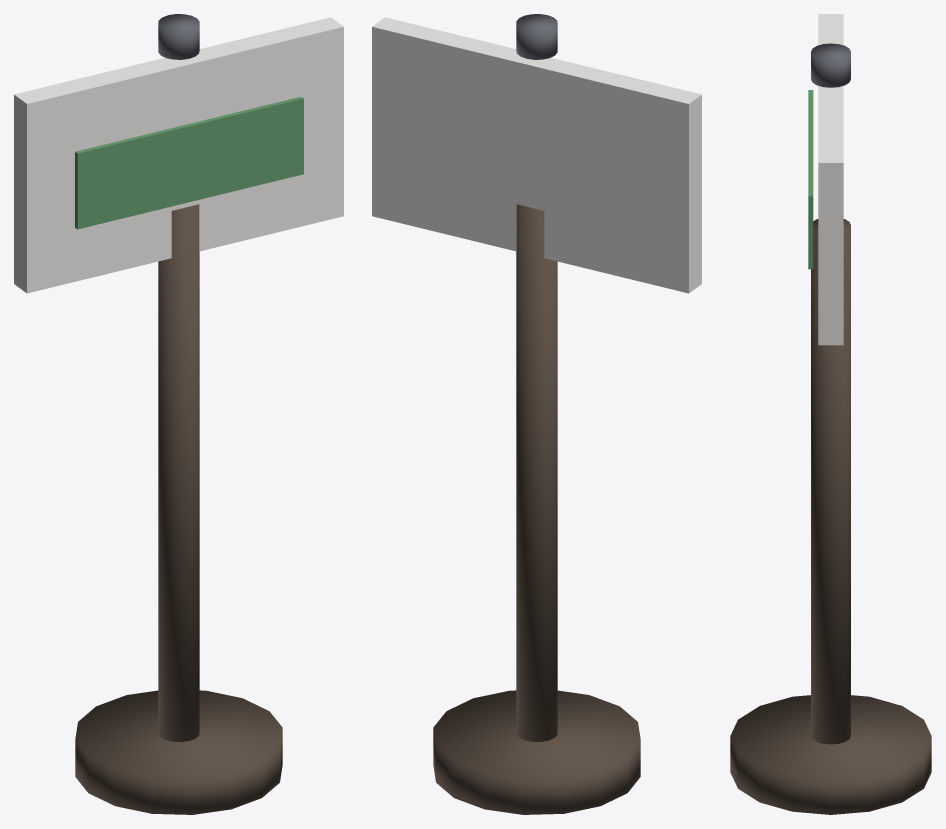
The model's file is prop_tate_fuda_open.glb.
3 views of the same model, side by side, from view 1: azimuth 30°, elevation 25°; view 2: azimuth 150°, elevation 25°; view 3: azimuth 270°, elevation 25° (orthographic). The views are drawn at different scales.
Parts seen in each view (by area): view 1: tate_fuda_open; view 2: tate_fuda_open; view 3: tate_fuda_open.
Part boxes in pixels (x1,y1,x2,y2): tate_fuda_open: (14,14,343,814); tate_fuda_open: (372,14,701,814); tate_fuda_open: (730,14,931,814).
Bounding box in the file's own units: 0.7 × 1.58 × 0.4.
